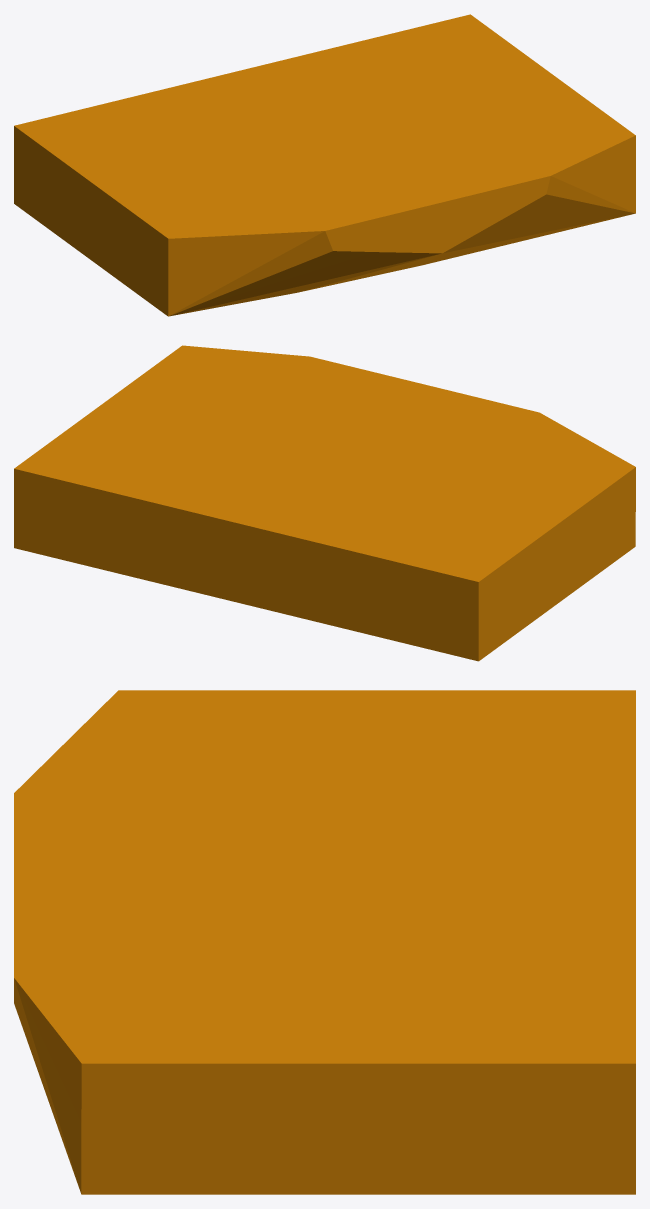
3 renders of one model, top to bottom at view 1: azimuth 30°, elevation 25°; view 2: azimuth 150°, elevation 25°; view 3: azimuth 270°, elevation 25°, orthographic. The views are drawn at different scales.
Size of the model in its own units: 3.31 by 0.5409 by 2.33.
